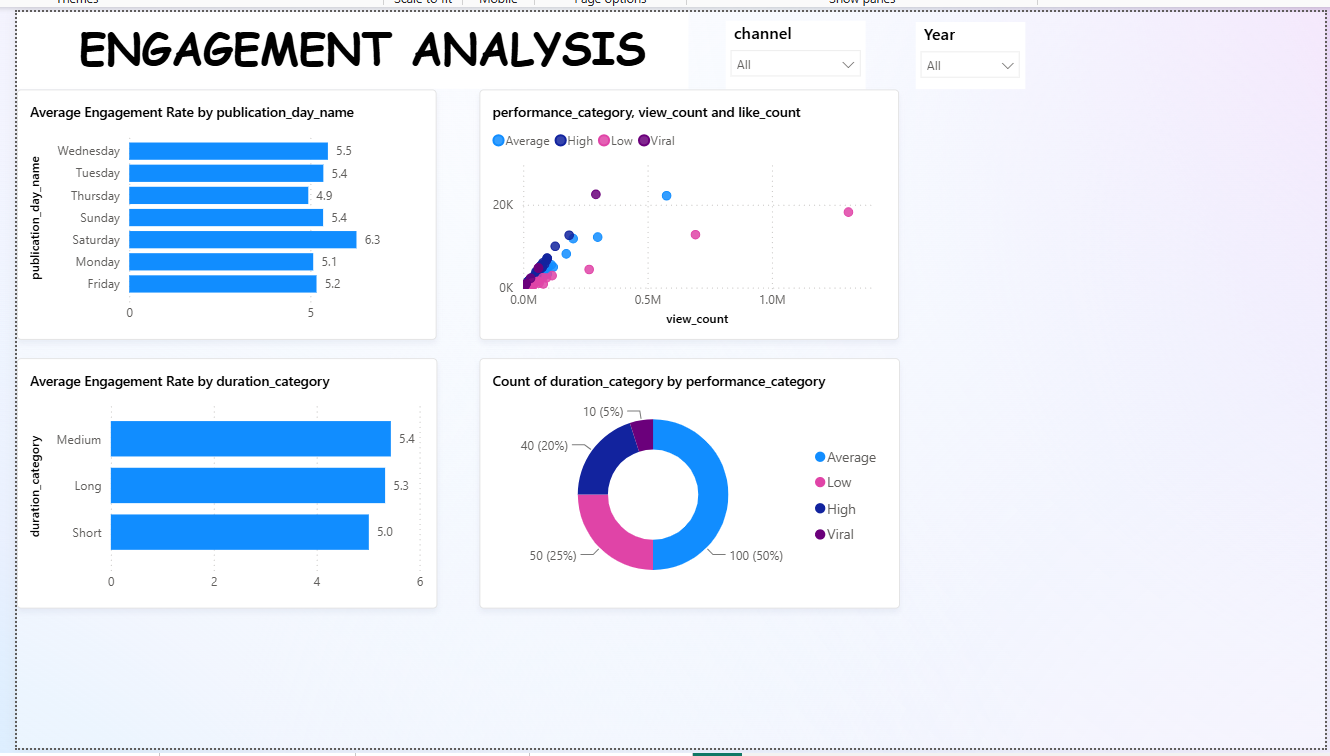

Layout of this report page (visuals, bound fields, positions):
{"tool":"powerbi","page":{"name":"Engagement Analysis","canvas":[1280,720],"ordinal":1},"visuals":[{"type":"textbox","box":[0,0,657.1,75.5],"z":0},{"type":"slicer","fields":{"Values":["youtube_cleaned_data.channel_title"]},"box":[692.7,8.6,136.8,67],"z":1},{"type":"slicer","fields":{"Values":["DimDate.Year"]},"box":[879.5,10,106.9,65.6],"z":2},{"type":"barChart","fields":{"Category":["youtube_cleaned_data.publication_day_name"],"Y":["DimDate.Average Engagement Rate"]},"box":[0,75.5,410.5,245.2],"z":3},{"type":"scatterChart","fields":{"X":["youtube_cleaned_data.view_count"],"Y":["youtube_cleaned_data.like_count"],"Series":["youtube_cleaned_data.performance_category"]},"box":[451.8,75.5,410.5,245.2],"z":4},{"type":"barChart","fields":{"Category":["youtube_cleaned_data.duration_category"],"Y":["DimDate.Average Engagement Rate"]},"box":[0,338.5,411,245],"z":5},{"type":"donutChart","fields":{"Category":["youtube_cleaned_data.performance_category"],"Y":["CountNonNull(youtube_cleaned_data.duration_category)"]},"box":[452,339,411,245],"z":6}]}

Visuals, with their boxes on the page's 1280x720 design canvas (x1, y1, x2, y2). These are canvas units, not pixel positions in the 1330x756 screenshot, which may show the page scaled, cropped or inside an application window:
textbox: left=0, top=0, right=657, bottom=76
slicer - youtube_cleaned_data.channel_title: left=693, top=9, right=830, bottom=76
slicer - DimDate.Year: left=880, top=10, right=986, bottom=76
barChart - youtube_cleaned_data.publication_day_name x DimDate.Average Engagement Rate: left=0, top=76, right=410, bottom=321
scatterChart - youtube_cleaned_data.view_count x youtube_cleaned_data.like_count: left=452, top=76, right=862, bottom=321
barChart - youtube_cleaned_data.duration_category x DimDate.Average Engagement Rate: left=0, top=338, right=411, bottom=584
donutChart - youtube_cleaned_data.performance_category x CountNonNull(youtube_cleaned_data.duration_category): left=452, top=339, right=863, bottom=584
